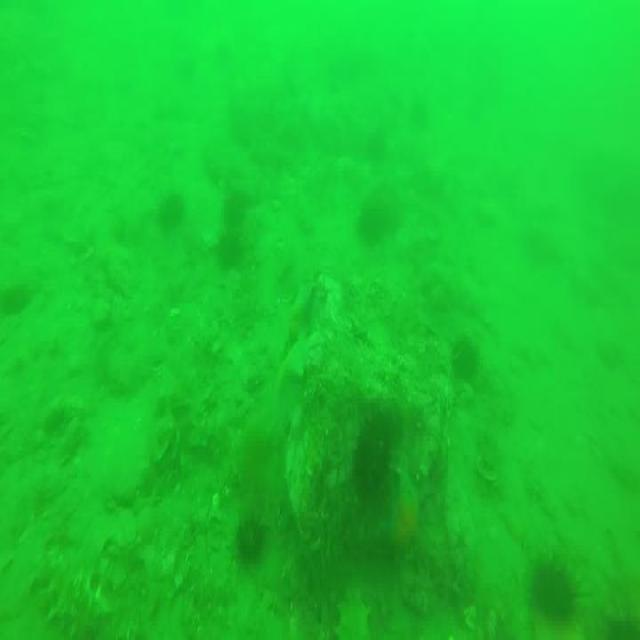echinus: (527, 556, 582, 621), (358, 413, 391, 504), (358, 194, 398, 238), (235, 512, 268, 559), (450, 334, 476, 387), (159, 194, 188, 236), (222, 194, 244, 226), (218, 239, 239, 267)
holothurian: (34, 551, 105, 640), (332, 583, 375, 640)
